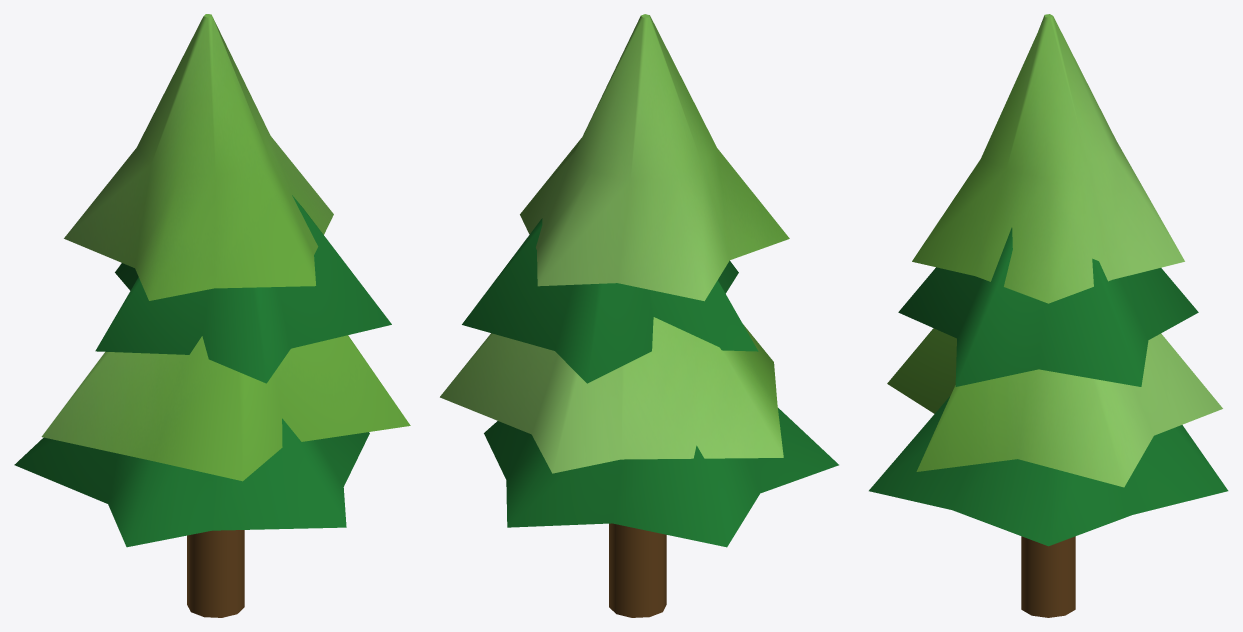
Rendered from TreeGreen.fbx.
The picture shows the model from 3 angles, left to right: view 1: azimuth 30°, elevation 25°; view 2: azimuth 150°, elevation 25°; view 3: azimuth 270°, elevation 25°; orthographic projection.
Parts seen in each view (by area): view 1: Cone024; view 2: Cone024; view 3: Cone024.
Part boxes in pixels (x1,y1,x2,y2): Cone024: (14, 14, 410, 617); Cone024: (440, 14, 838, 617); Cone024: (869, 14, 1228, 617).
Bounding box in the file's own units: 18.46 × 32.6 × 18.15.
Materials: 3 (3 with a texture image).
